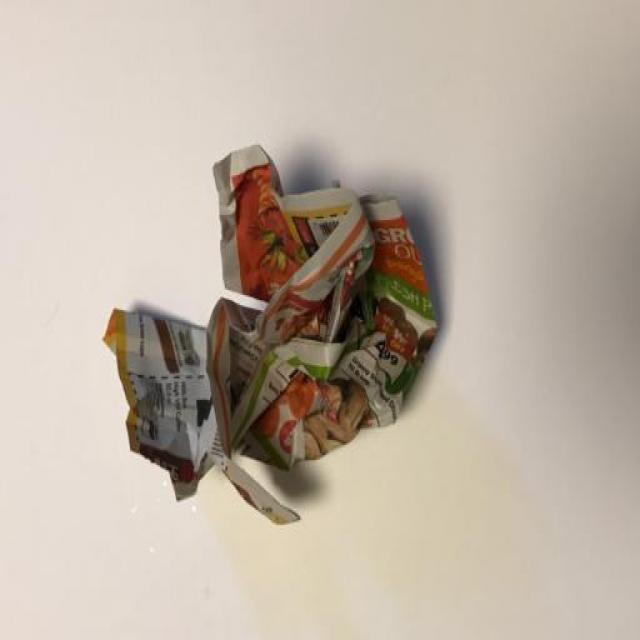paper: (96, 141, 461, 509)
